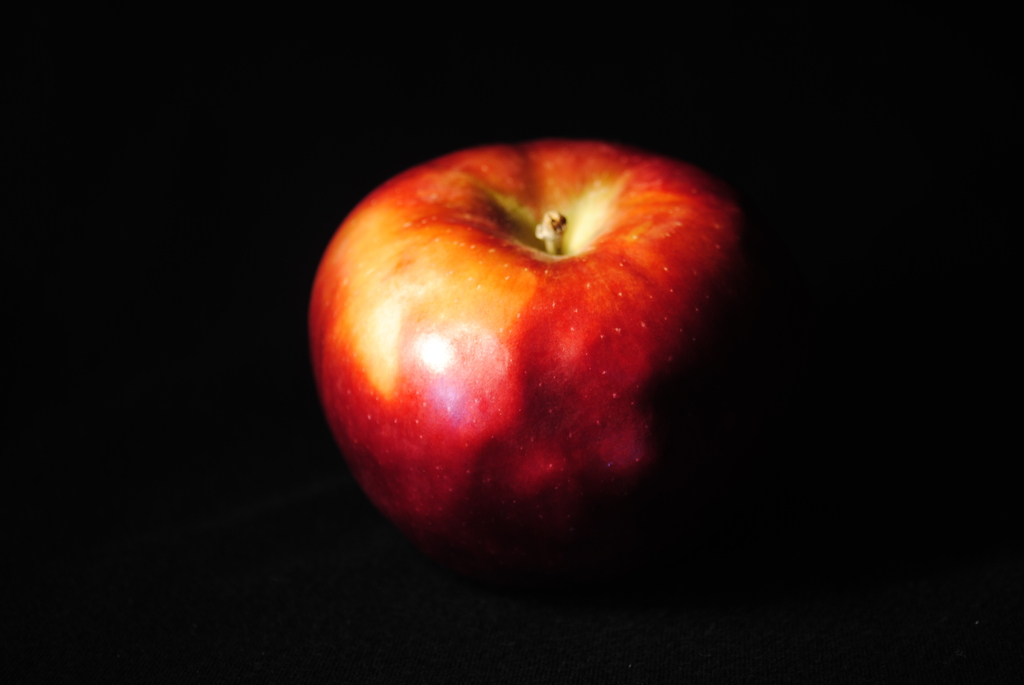Apple: (295, 119, 742, 587)
